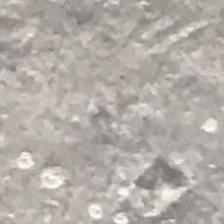Non_Crack: (48, 29, 210, 156)
